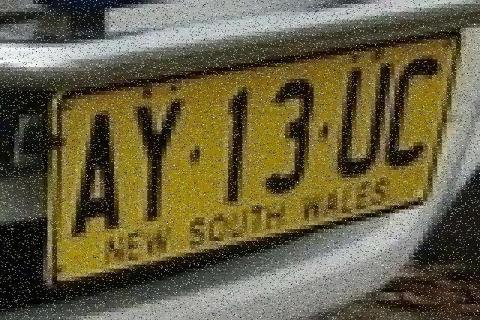LicensePlate: (34, 23, 479, 296)
